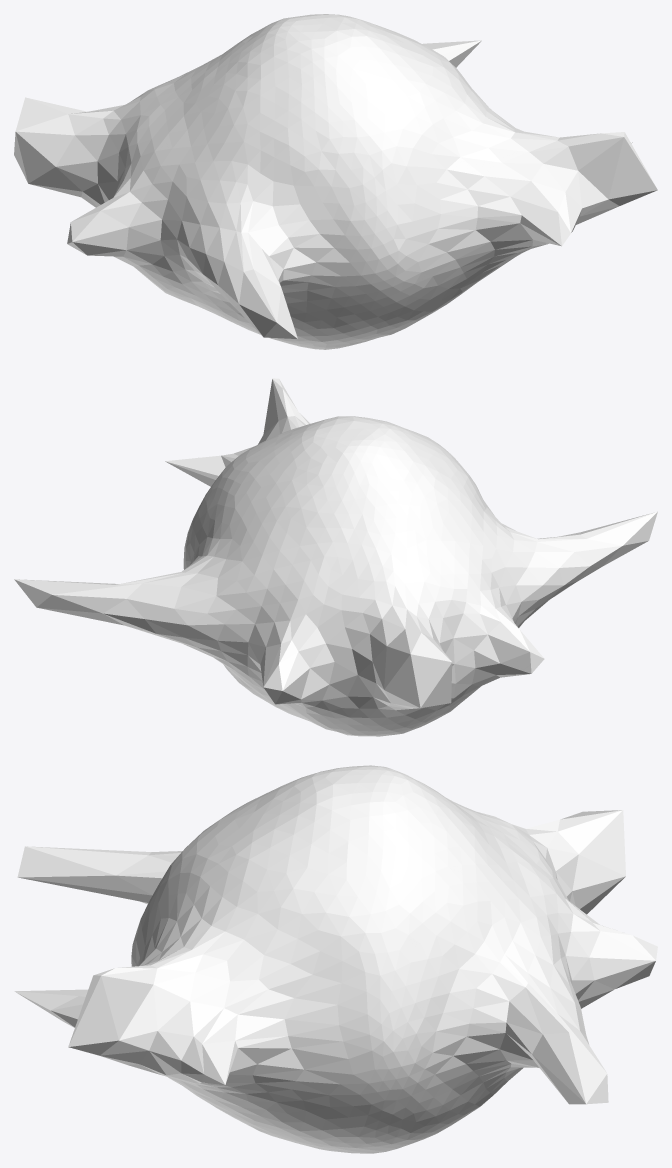
The model's file is plane_rotZ45[0.3,0.0,0.3]s1[-1.7,0.0,-1.7]_00060.obj.
3 renders of one model, top to bottom at view 1: azimuth 30°, elevation 25°; view 2: azimuth 150°, elevation 25°; view 3: azimuth 270°, elevation 25°, orthographic. The views are drawn at different scales.
Size of the model in its own units: 1.12 by 0.6764 by 1.11.
Materials: 1 (1 with a texture image).
